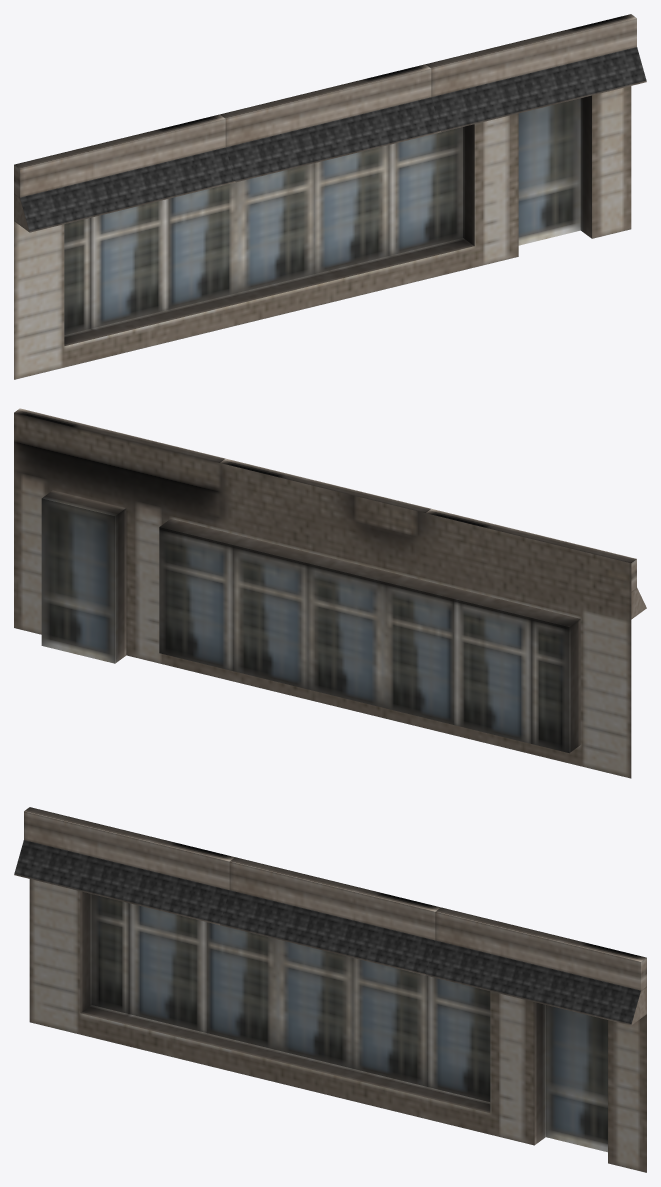
The model's file is B2_Market.FBX.
The picture shows the model from 3 angles, top to bottom: view 1: azimuth 30°, elevation 25°; view 2: azimuth 150°, elevation 25°; view 3: azimuth 330°, elevation 25°; orthographic projection.
Visible parts, largest first — view 1: B2_Market; view 2: B2_Market; view 3: B2_Market.
Part boxes in pixels (bbox=[...]): B2_Market: bbox=[14, 14, 646, 379]; B2_Market: bbox=[14, 408, 646, 778]; B2_Market: bbox=[14, 807, 646, 1172].
Bounding box in the file's own units: 12 × 4 × 0.9142.
